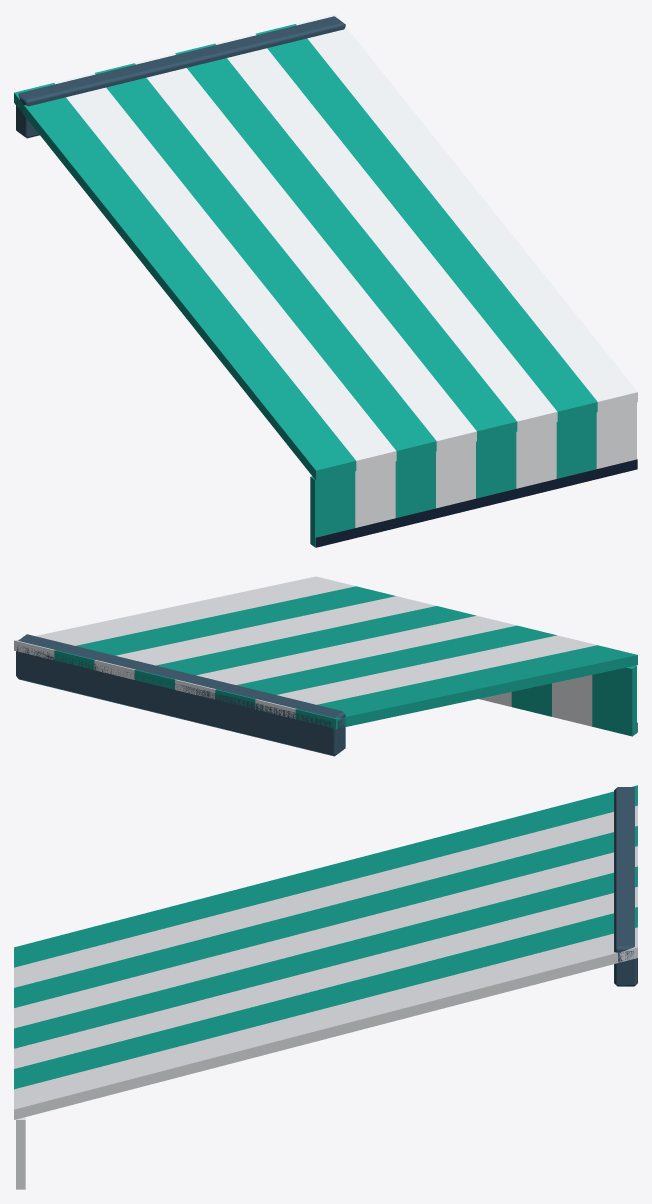
File: CM_Shell_Awning.fbx
3 views of the same model, one above another, from view 1: azimuth 30°, elevation 25°; view 2: azimuth 150°, elevation 25°; view 3: azimuth 270°, elevation 25° (orthographic). The views are drawn at different scales.
Visible parts, largest first — view 1: Body; view 2: Body; view 3: Body.
Boxes of the visible parts, box(x1,y1,x2,y2) form: Body: box(14, 14, 637, 547); Body: box(14, 576, 637, 756); Body: box(14, 785, 637, 1189).
Bounding box in the file's own units: 4 × 6.5 × 2.78.
Materials: 1 (1 with a texture image).
